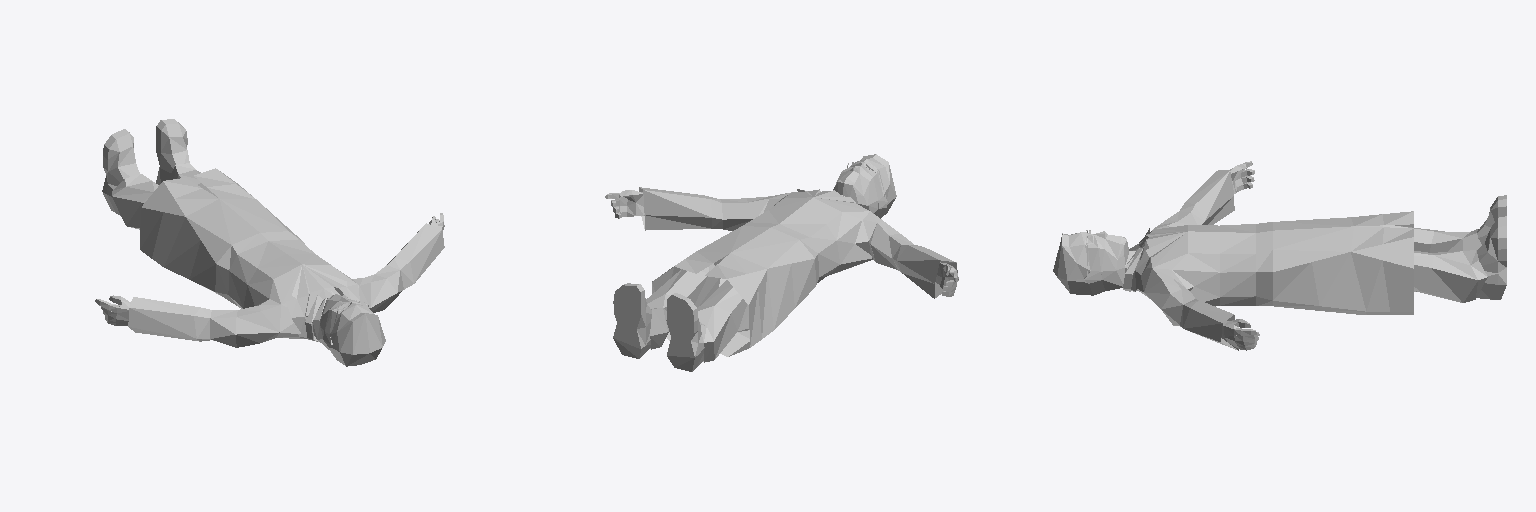
Rendered from scientistLOW.obj.
3 renders of one model, left to right at view 1: azimuth 30°, elevation 25°; view 2: azimuth 150°, elevation 25°; view 3: azimuth 270°, elevation 25°, orthographic.
Parts seen in each view (by area): view 1: Plane.6777_scientist; view 2: Plane.6777_scientist; view 3: Plane.6777_scientist.
Part boxes in pixels (x1,y1,x2,y2): Plane.6777_scientist: (95,119,444,366); Plane.6777_scientist: (605,154,958,371); Plane.6777_scientist: (1053,161,1506,350).
Size of the model in its own units: 1.4 by 0.3727 by 1.57.